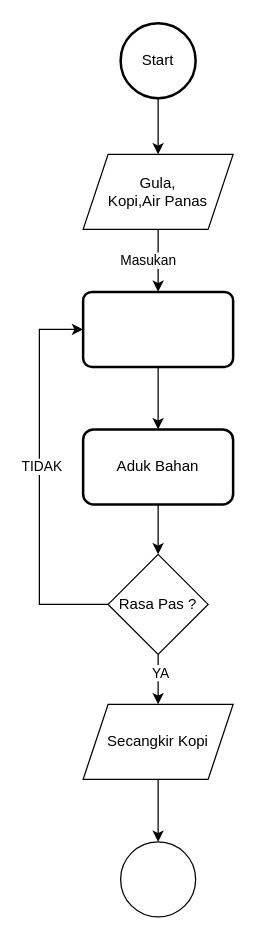
The diagram is 256 pixels wide and 939 high, and some of its shapes have lost their labels. The shapes that lost their labels are listed below. From the top down, each one's centre as x and y in pixels, then its label:
pixel 157 329: Cangkir
pixel 157 879: End
